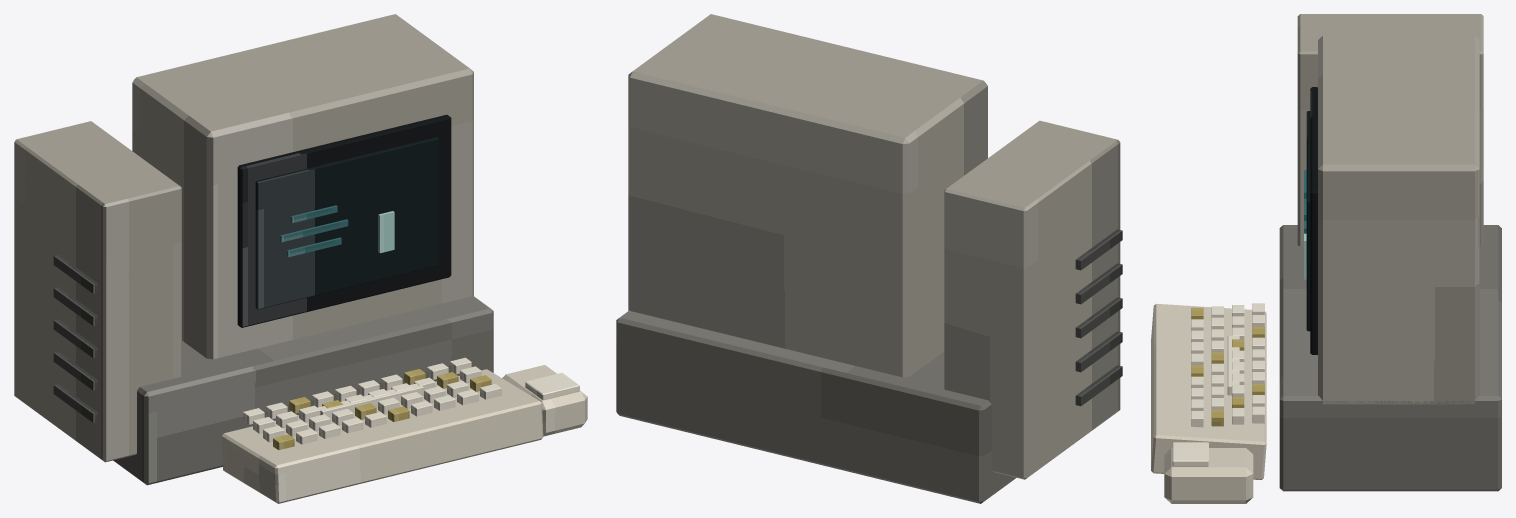
The model's file is retro_computer_compact_ivory.glb.
3 renders of one model, left to right at view 1: azimuth 30°, elevation 25°; view 2: azimuth 150°, elevation 25°; view 3: azimuth 270°, elevation 25°, orthographic. The views are drawn at different scales.
Parts seen in each view (by area): view 1: MonitorShell, SideExpansion, CompactBase, MonitorGlow, KeyboardBody, MonitorFace, Mouse, MouseButton, SpaceBar, ScreenGlyph_4, SideVent_1, SideVent_0 (+3 smaller); view 2: MonitorShell, SideExpansion, CompactBase, SideVent_3, SideVent_4, SideVent_0, SideVent_2, SideVent_1; view 3: MonitorShell, CompactBase, KeyboardBody, SideExpansion, Mouse, MonitorFace, MonitorGlow, MouseButton, SpaceBar.
Boxes of the visible parts, left/top/right/bottom form: MonitorShell: left=132, top=14, right=473, bottom=359; SideExpansion: left=14, top=121, right=181, bottom=462; CompactBase: left=113, top=295, right=493, bottom=485; MonitorGlow: left=255, top=137, right=438, bottom=309; KeyboardBody: left=222, top=369, right=543, bottom=503; MonitorFace: left=237, top=114, right=451, bottom=327; Mouse: left=502, top=365, right=587, bottom=436; MouseButton: left=525, top=373, right=579, bottom=399; SpaceBar: left=318, top=383, right=423, bottom=418; ScreenGlyph_4: left=378, top=211, right=394, bottom=253; SideVent_1: left=53, top=351, right=98, bottom=390; SideVent_0: left=53, top=384, right=98, bottom=422; MonitorShell: left=628, top=14, right=987, bottom=377; SideExpansion: left=944, top=120, right=1120, bottom=479; CompactBase: left=616, top=310, right=1016, bottom=503; SideVent_3: left=1075, top=263, right=1122, bottom=304; SideVent_4: left=1075, top=229, right=1122, bottom=270; SideVent_0: left=1075, top=365, right=1122, bottom=406; SideVent_2: left=1075, top=297, right=1122, bottom=338; SideVent_1: left=1075, top=331, right=1122, bottom=372; MonitorShell: left=1318, top=35, right=1479, bottom=404; CompactBase: left=1279, top=225, right=1501, bottom=491; KeyboardBody: left=1151, top=303, right=1266, bottom=479; SideExpansion: left=1297, top=14, right=1483, bottom=246; Mouse: left=1164, top=448, right=1253, bottom=503; MonitorFace: left=1310, top=87, right=1317, bottom=354; MonitorGlow: left=1306, top=111, right=1310, bottom=331; MouseButton: left=1172, top=442, right=1208, bottom=466; SpaceBar: left=1227, top=336, right=1239, bottom=395.
Size of the model in its own units: 1.25 by 0.89 by 0.8679.
Materials: 1 (1 with a texture image).
